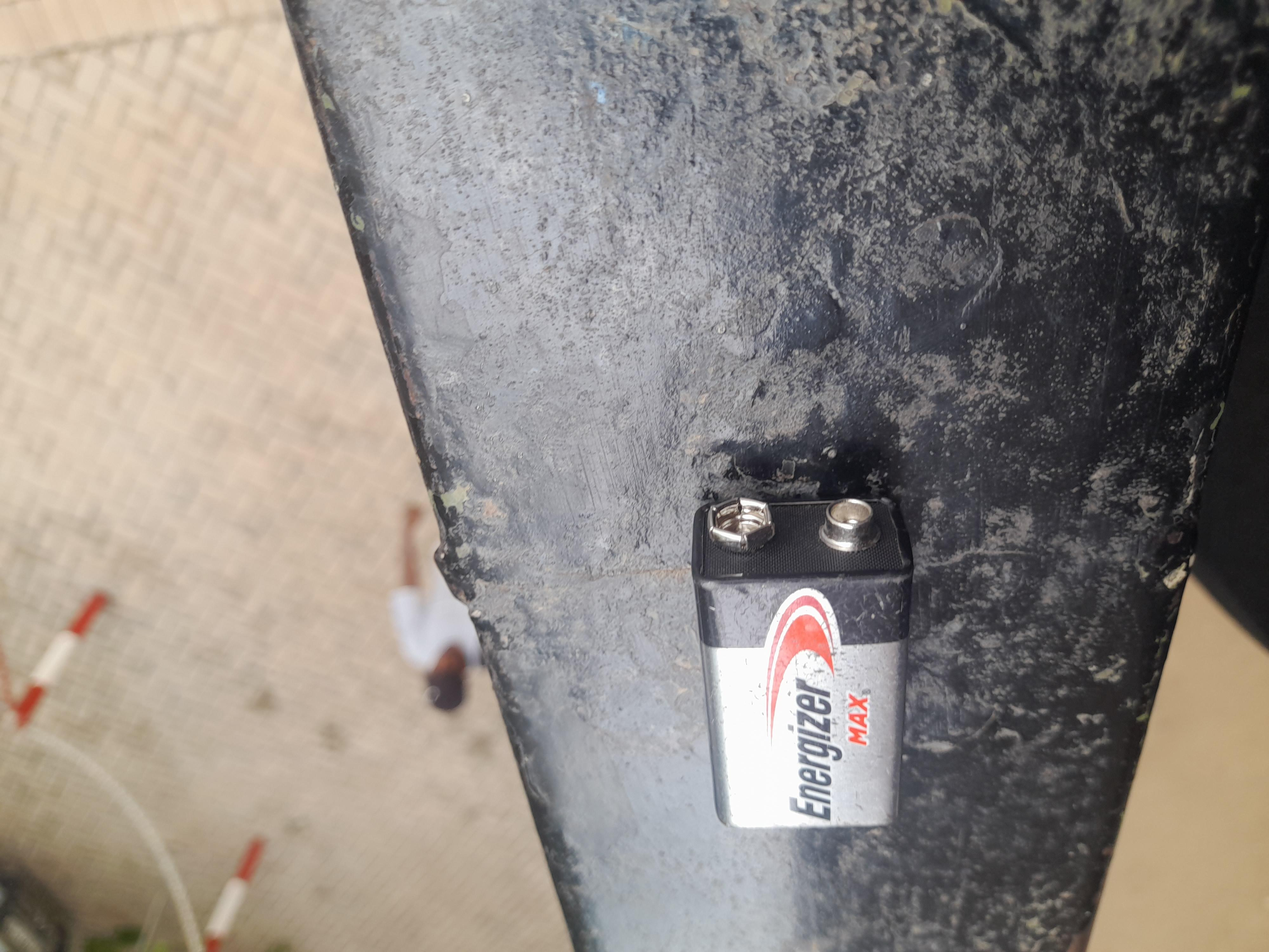9V: (343, 92, 585, 496)
